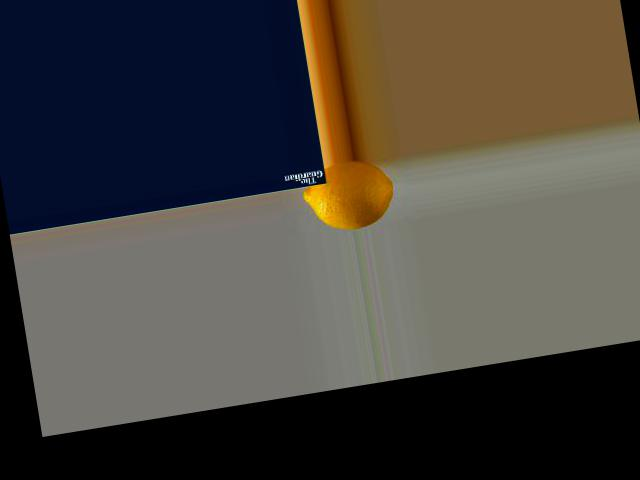lemon: (286, 152, 412, 239)
